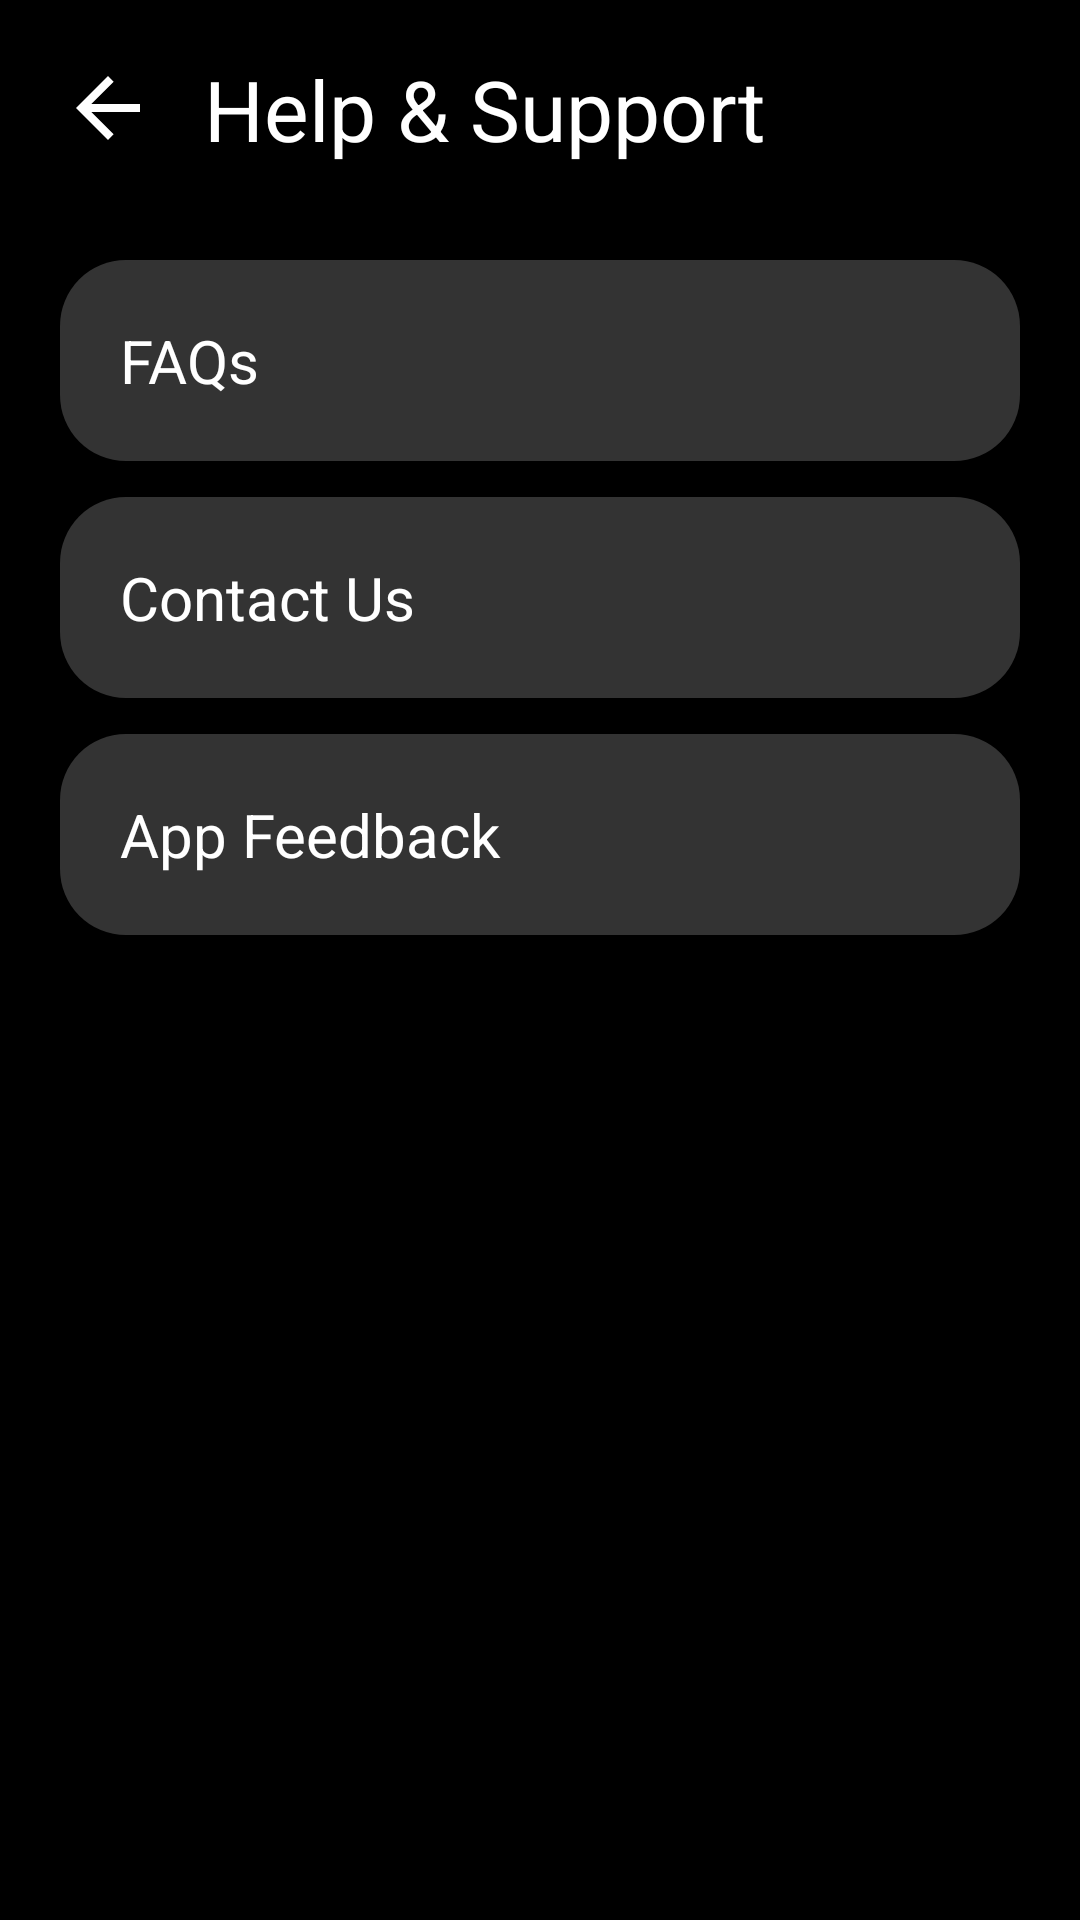

Where to tap for icons on this 1080px×1920px app screen, as (x,y):
back: (108,108)
